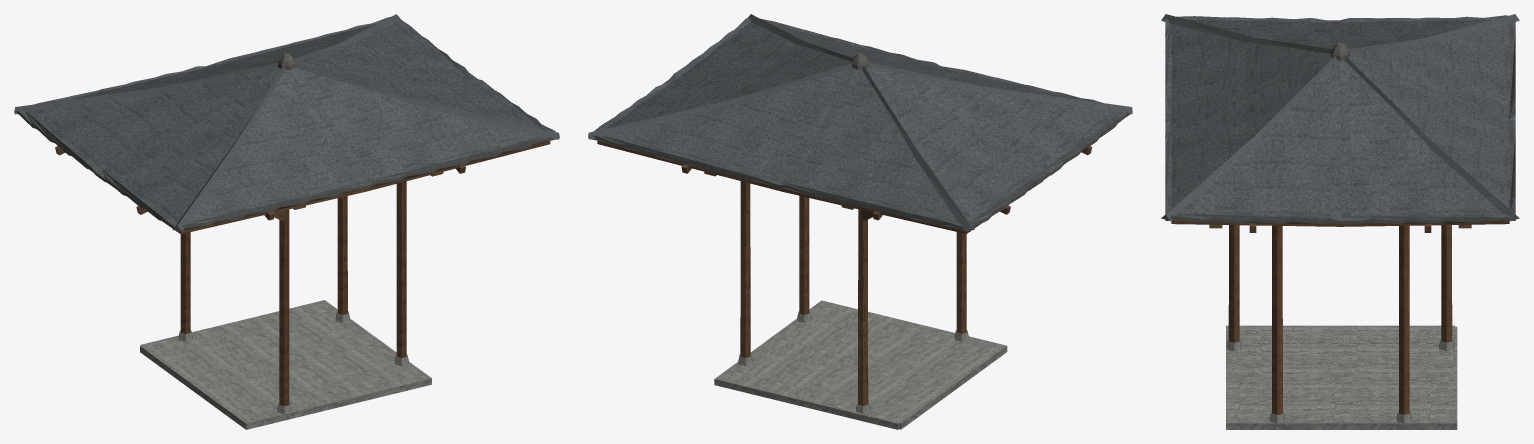
Rendered from GalleryCorner_LOD1.fbx.
The picture shows the model from 3 angles, left to right: view 1: azimuth 30°, elevation 25°; view 2: azimuth 150°, elevation 25°; view 3: azimuth 270°, elevation 25°; orthographic projection. The views are drawn at different scales.
Parts seen in each view (by area): view 1: GalleryCorner.001; view 2: GalleryCorner.001; view 3: GalleryCorner.001.
Part boxes in pixels (bbox=[...]): GalleryCorner.001: bbox=[14, 14, 559, 429]; GalleryCorner.001: bbox=[588, 14, 1132, 429]; GalleryCorner.001: bbox=[1161, 14, 1519, 429].
Bounding box in the file's own units: 6.19 × 4.79 × 4.61.
Materials: 1 (1 with a texture image).
